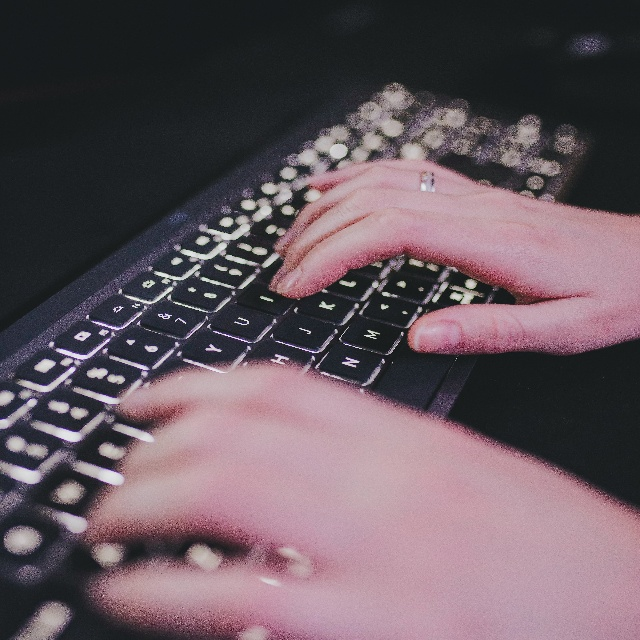Sin_guantes: (85, 377, 640, 640), (269, 159, 640, 349)
